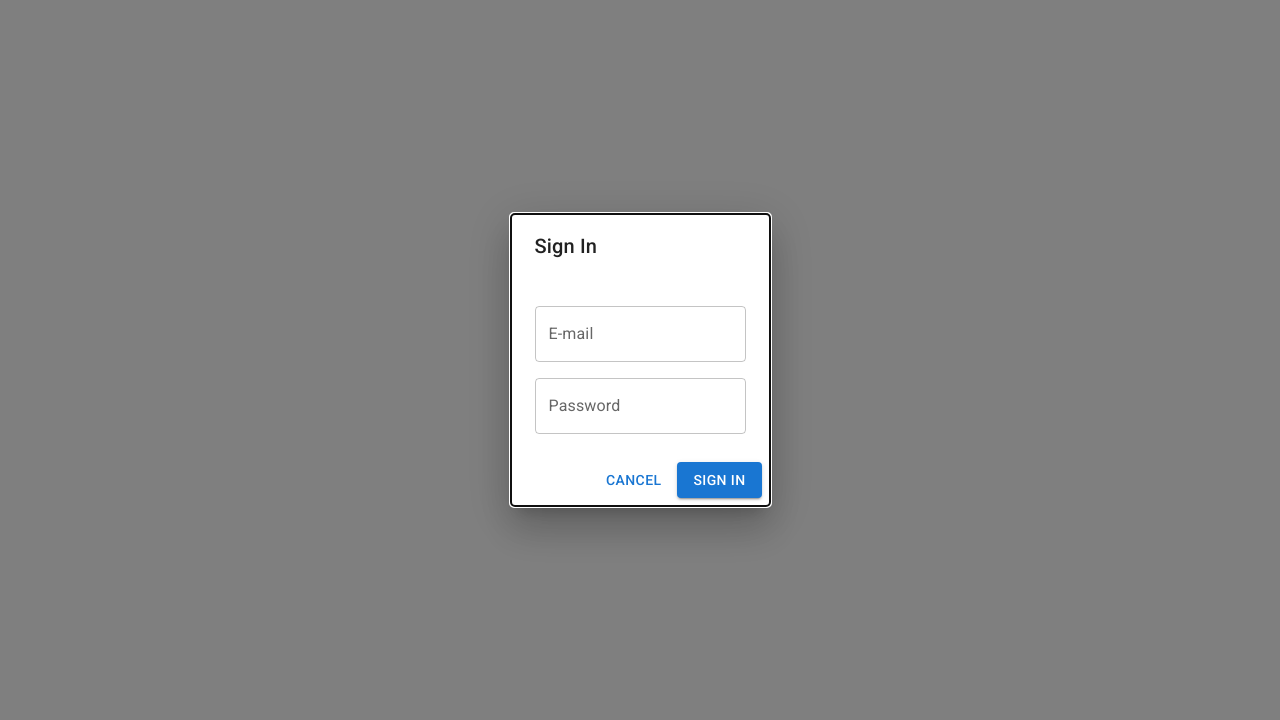
Test: SignInDialog › disables buttons while submitting
Type "john@example.com" into the field labelled "E-mail" at [640, 334], box [534,306,746,362]
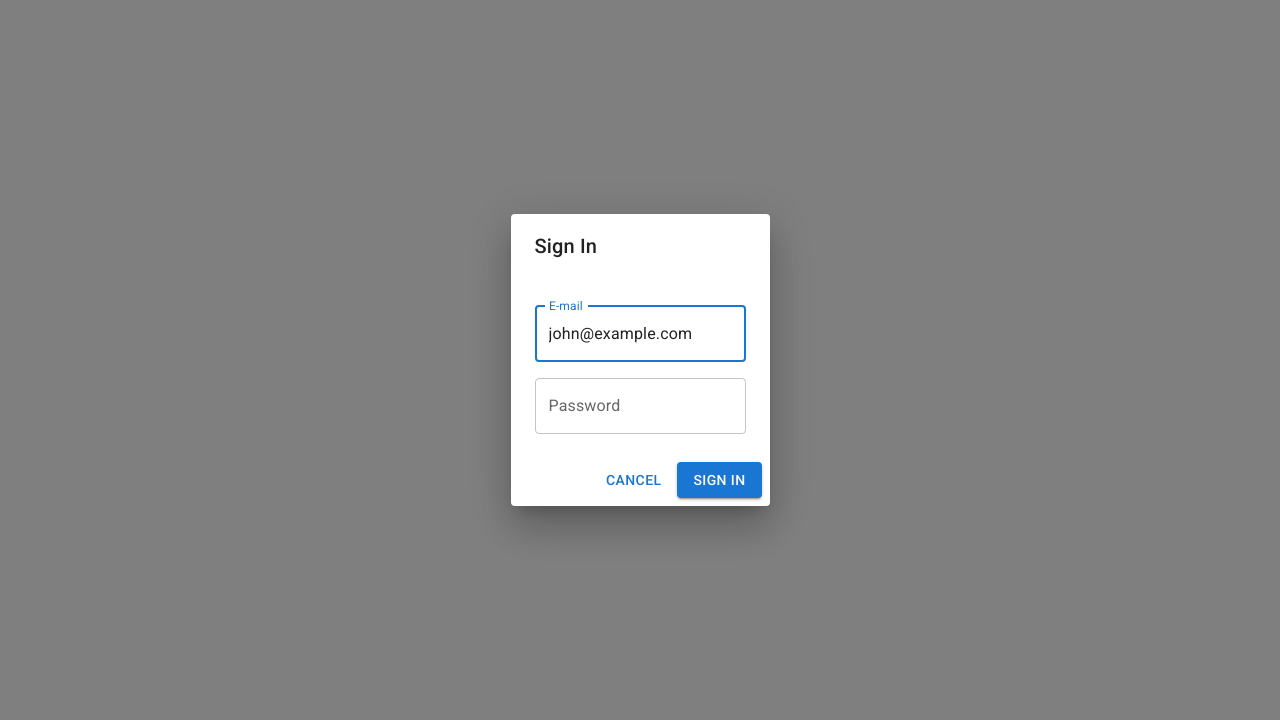
Type "password123" into the password field labelled "Password" at [640, 406], box [534,378,746,434]
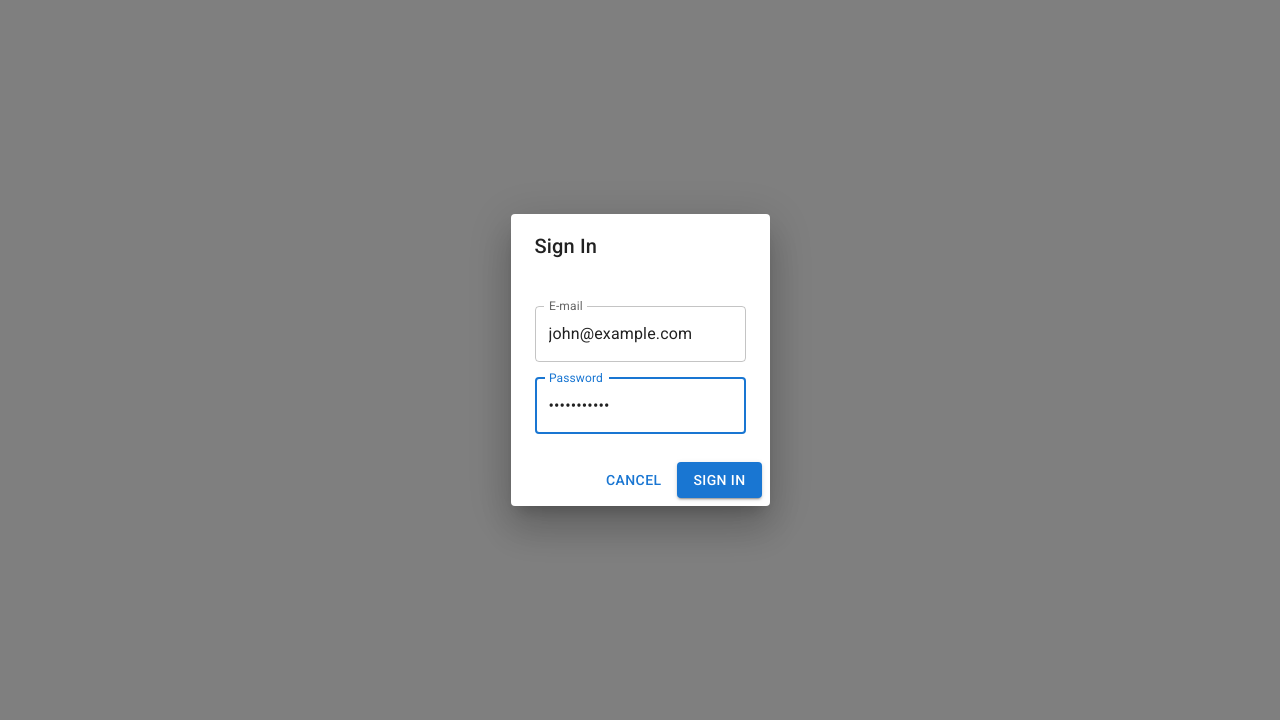
Expected: the button "Cancel" is enabled, [598,462,669,498]
Click the button "Sign In" at [719, 480], box [677,462,762,498]
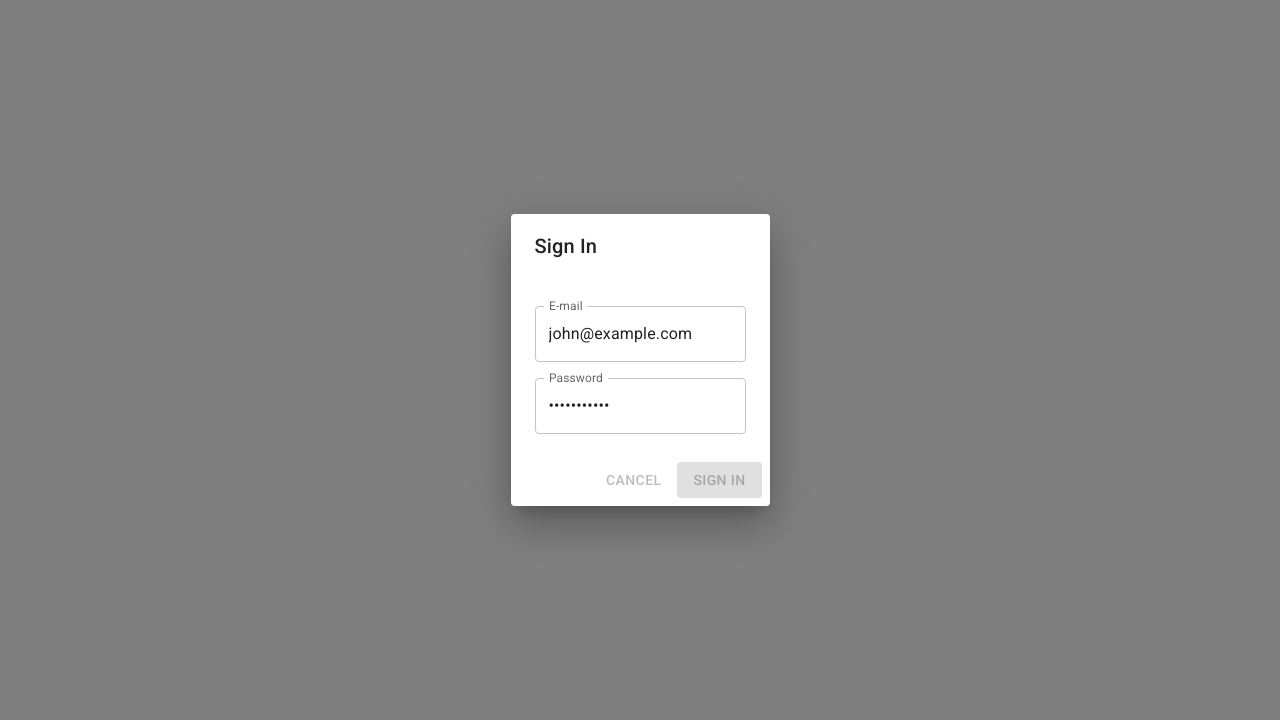
Result: the button "Sign In" is disabled at [677,462,762,498]
Result: the button "Cancel" is disabled at [598,462,669,498]
